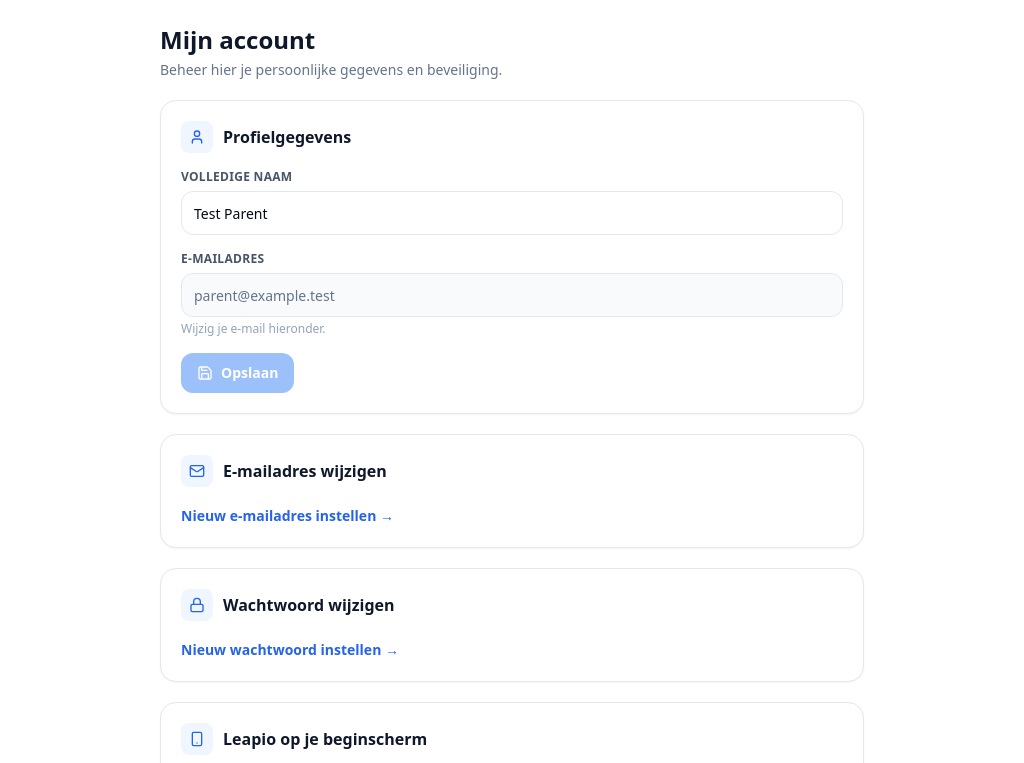
Scenario: ParentAccount › sends a confirmation email through supabase.auth.updateUser on the email-change flow
Expected: the heading "Mijn account" is shown, x1=160 y1=23 x2=315 y2=56
Click the button "Nieuw e-mailadres instellen →" at (288, 516), box x1=181 y1=506 x2=394 y2=526
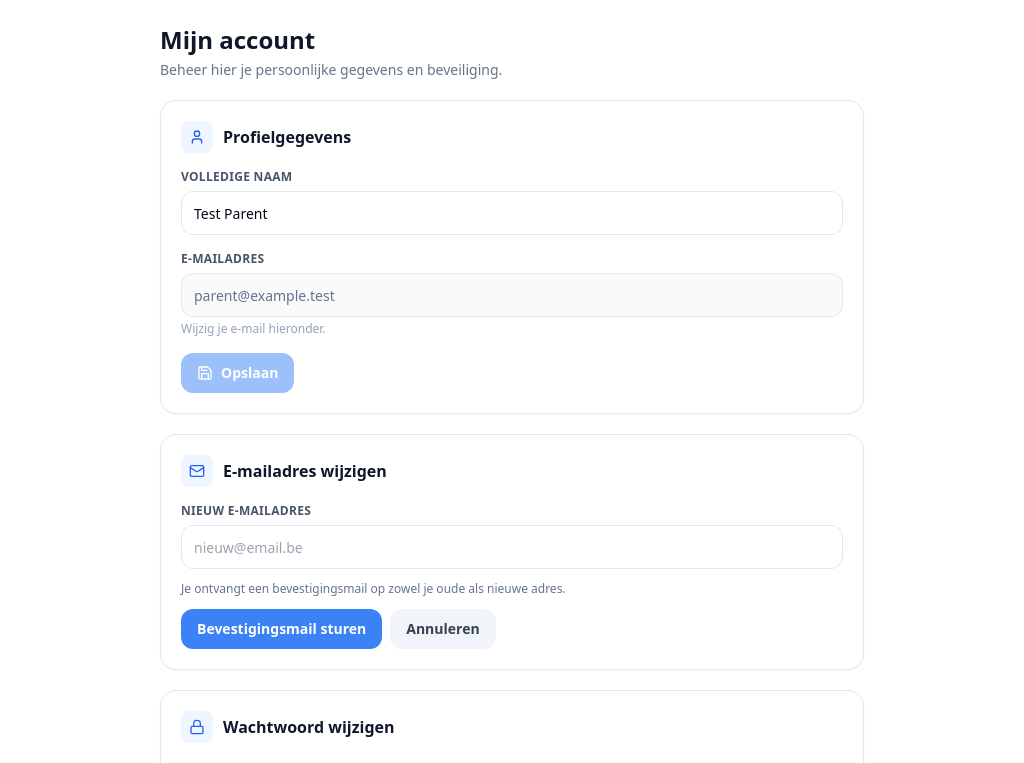
Type "nieuw@example.test" into the field with placeholder "nieuw@email.be" at (512, 547), box x1=181 y1=525 x2=843 y2=569
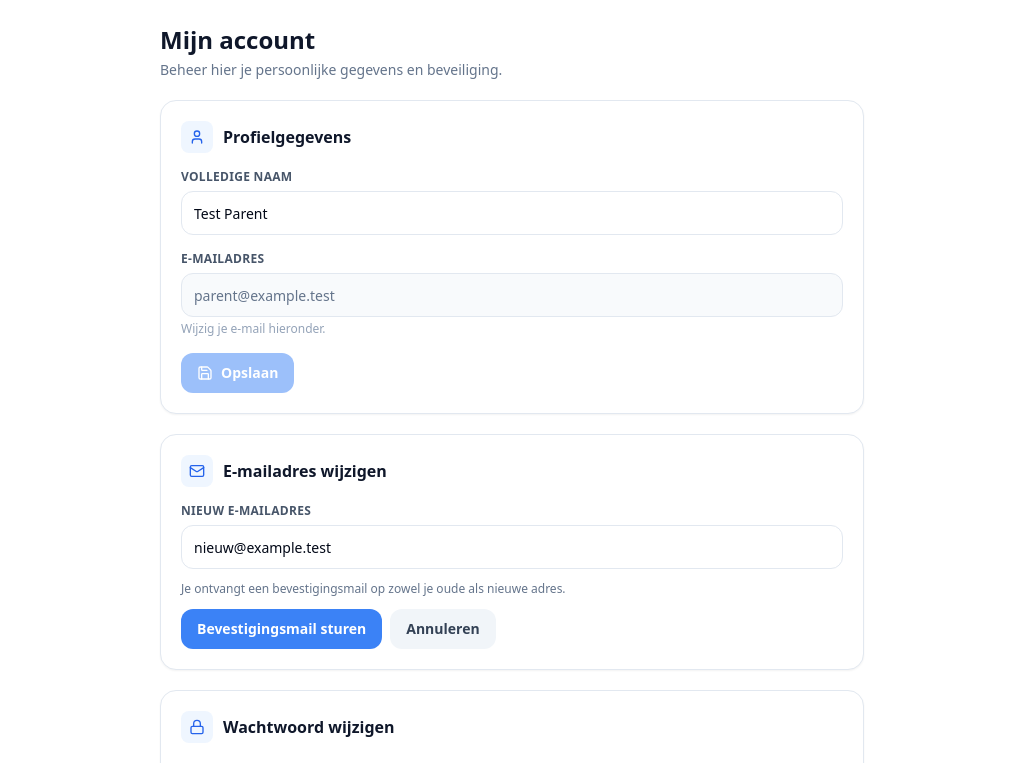
Click the button "Bevestigingsmail sturen" at (282, 629), box x1=181 y1=609 x2=382 y2=649
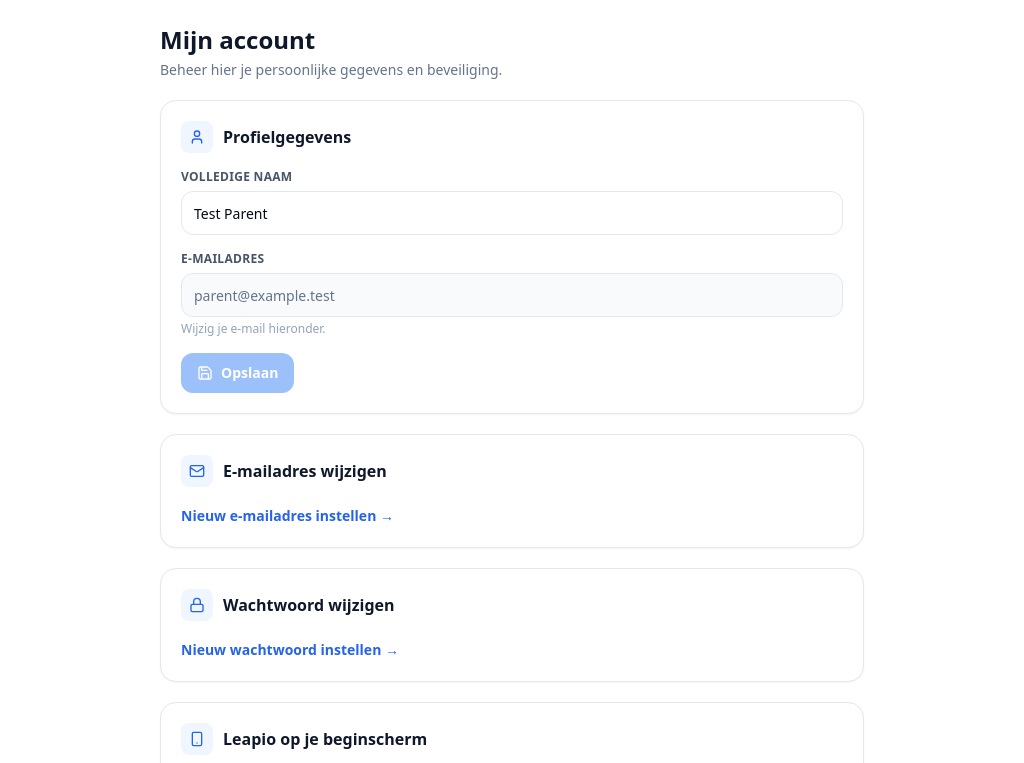
Result: the button "Nieuw e-mailadres instellen →" is shown at x1=181 y1=506 x2=394 y2=526
